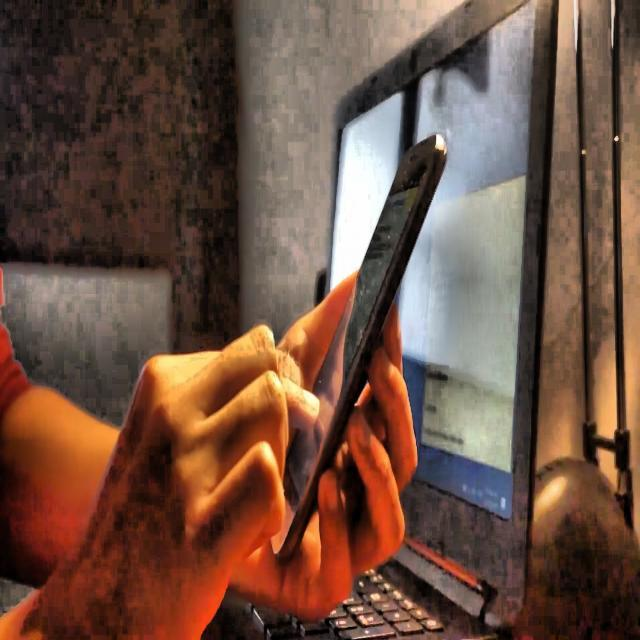Phone: (264, 132, 450, 566)
